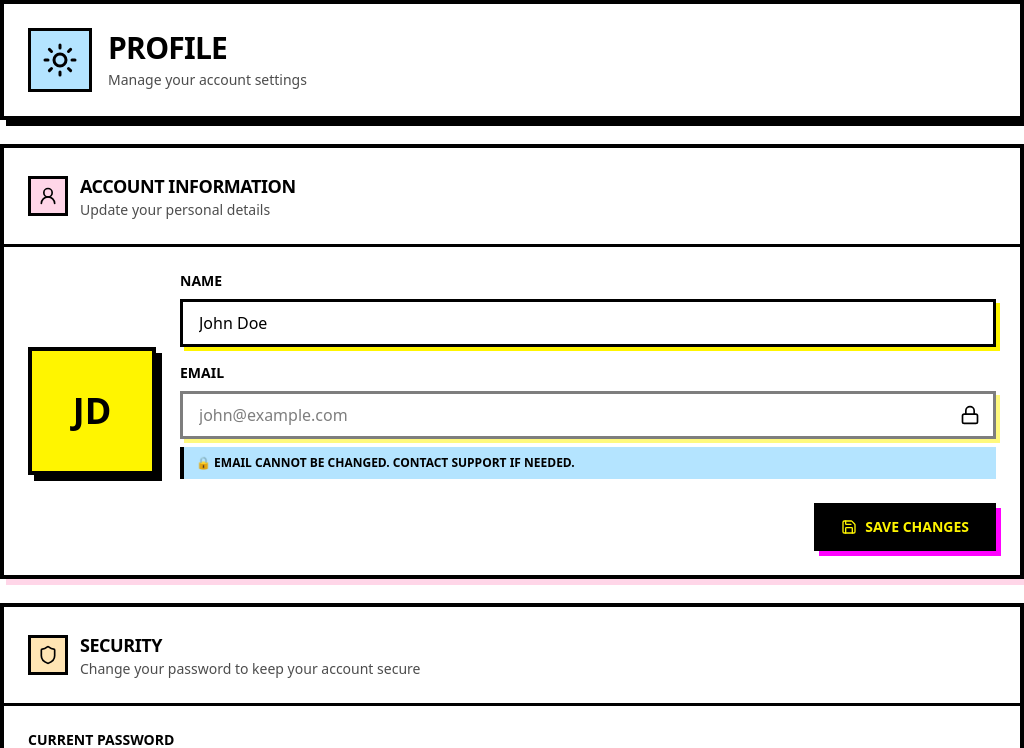
Test: Profile - Functional Tests › Name Update › should validate and reject empty name
Clear the field with placeholder "Your name" below "Name" at (588, 323), box [180, 299, 996, 347]
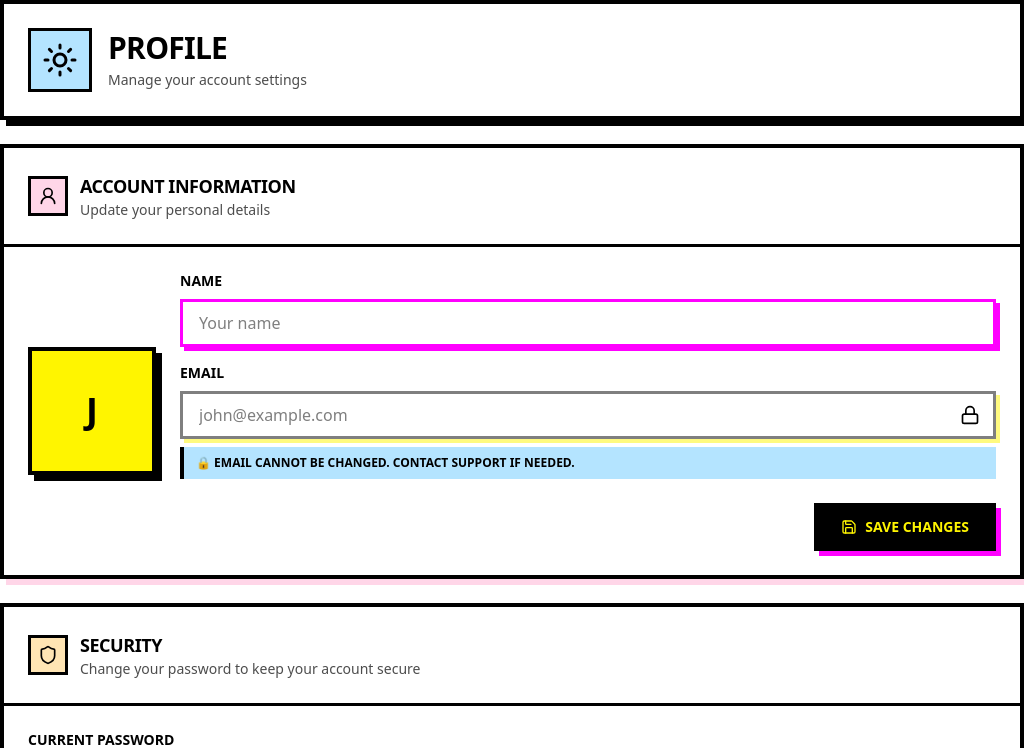
Click the button "Save Changes" at (905, 527), box [814, 503, 996, 551]
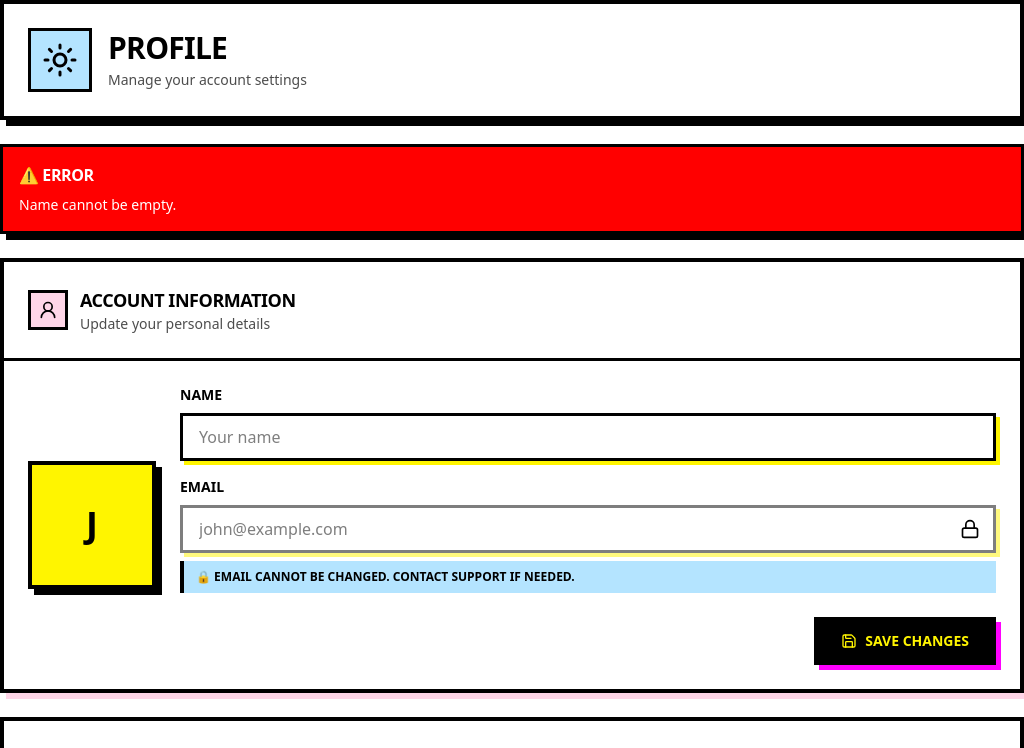
Check: the text "Name cannot be empty." is shown, box [19, 195, 176, 214]
